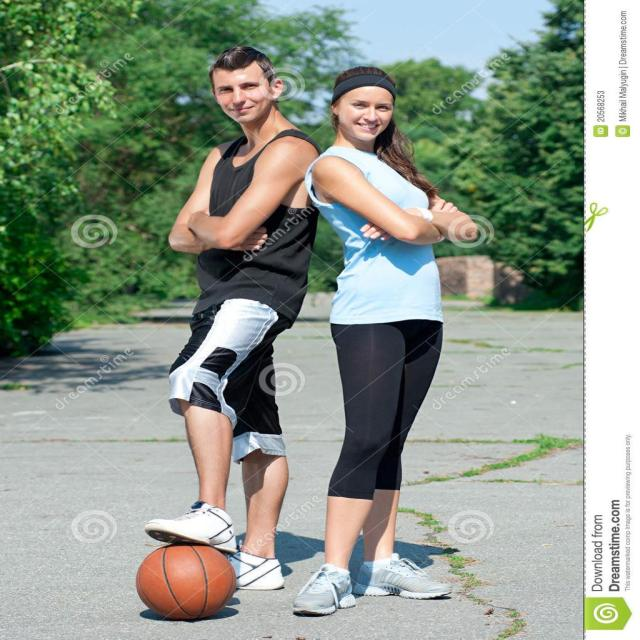Face: (337, 77, 399, 146), (215, 61, 273, 127)
